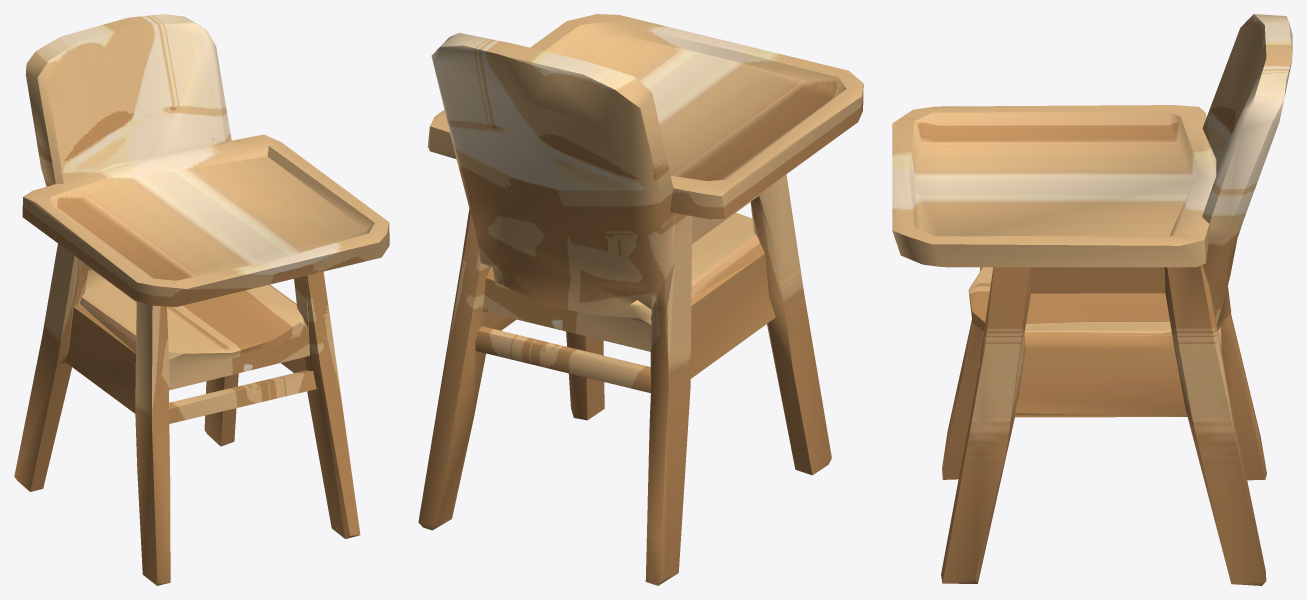
3 renders of one model, left to right at view 1: azimuth 30°, elevation 25°; view 2: azimuth 150°, elevation 25°; view 3: azimuth 270°, elevation 25°, orthographic. The views are drawn at different scales.
Visible parts, largest first — view 1: Decor_high_chair_a; view 2: Decor_high_chair_a; view 3: Decor_high_chair_a.
Part boxes in pixels (x1=…): Decor_high_chair_a: x1=14, y1=14, x2=389, y2=585; Decor_high_chair_a: x1=418, y1=14, x2=863, y2=585; Decor_high_chair_a: x1=892, y1=14, x2=1292, y2=585.
Size of the model in its own units: 0.5525 by 0.8957 by 0.6701.
Materials: 1 (1 with a texture image).
